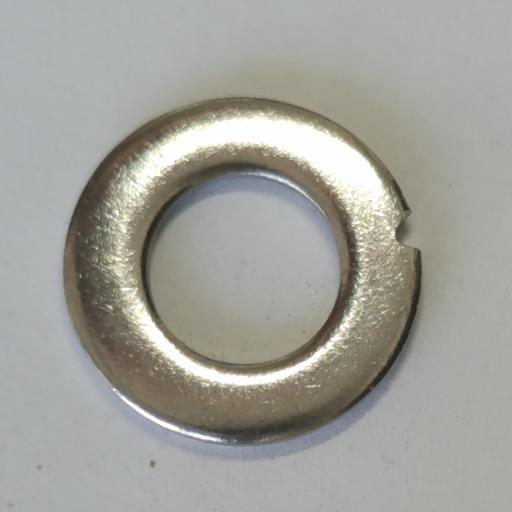burr: (393, 209, 423, 253)
